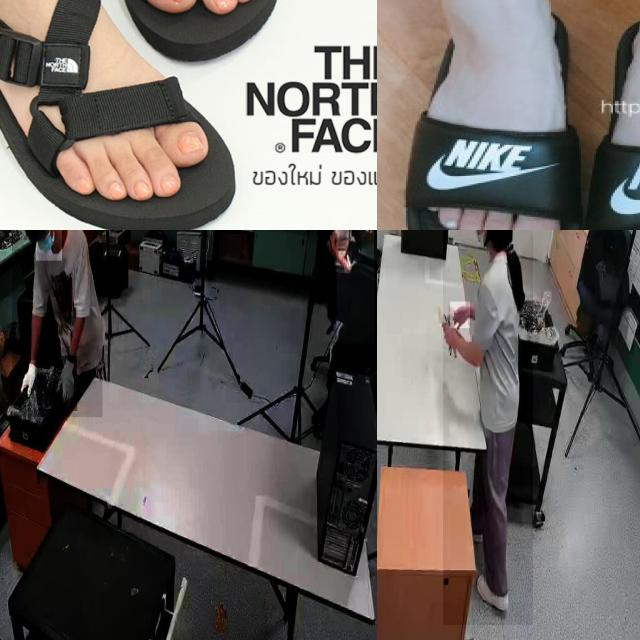Sandals: (0, 0, 328, 230), (401, 12, 583, 230)
face_mask: (36, 230, 62, 260)
hand_glove: (54, 356, 78, 412), (22, 360, 38, 395)
hand_noglove: (441, 316, 461, 351), (450, 302, 470, 329), (338, 251, 352, 274)
person: (442, 230, 533, 626), (12, 230, 103, 418), (336, 230, 374, 344)
shoes: (475, 564, 511, 619)
